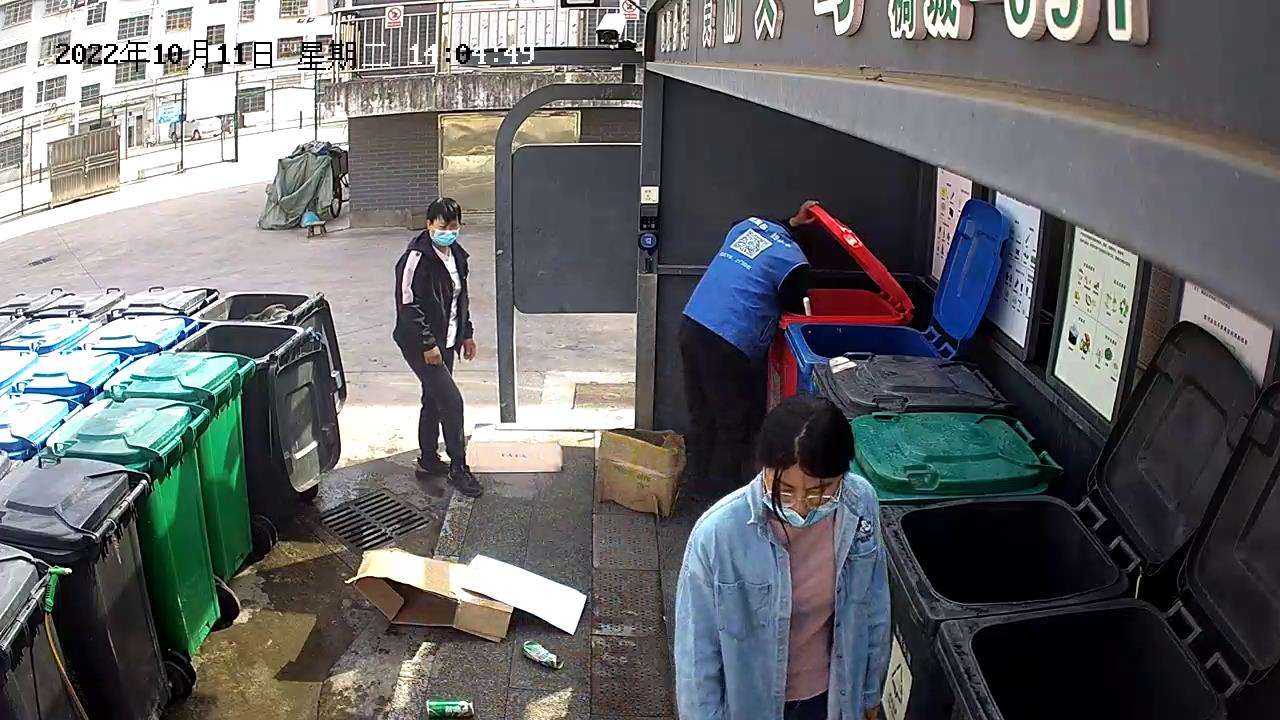lvzhipin: (522, 637, 568, 671), (423, 698, 476, 718)
person: (390, 196, 487, 498)
worker: (671, 391, 897, 720), (674, 195, 822, 516)
zhizhipin: (342, 542, 588, 642), (591, 424, 688, 521), (465, 436, 565, 476)
